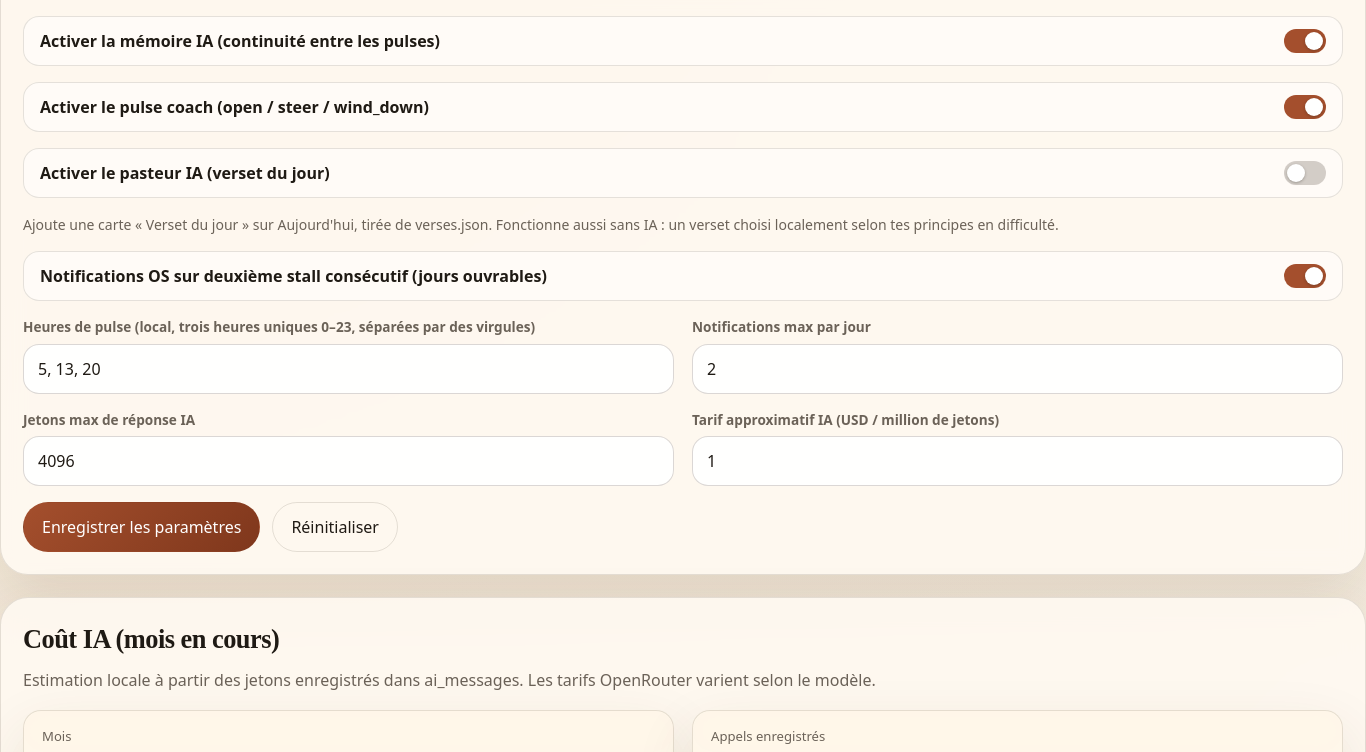
Test: SettingsPage AI payload preview › shows validation feedback for invalid pulse slot hours on blur
(page scrolled)
Step 1. Type "5, 13" into the field with placeholder "5, 13, 20" → [348, 369], box left=23, top=344, right=674, bottom=394
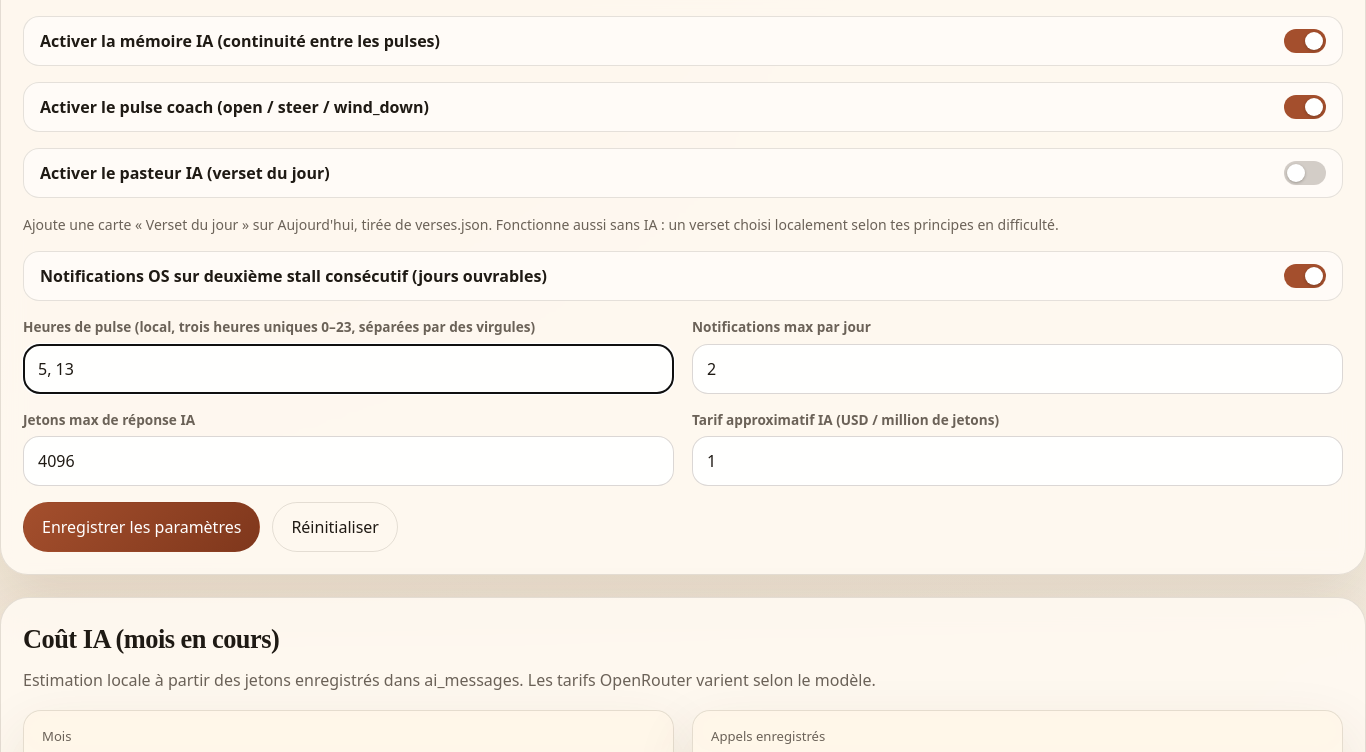
Step 2. Press Tab
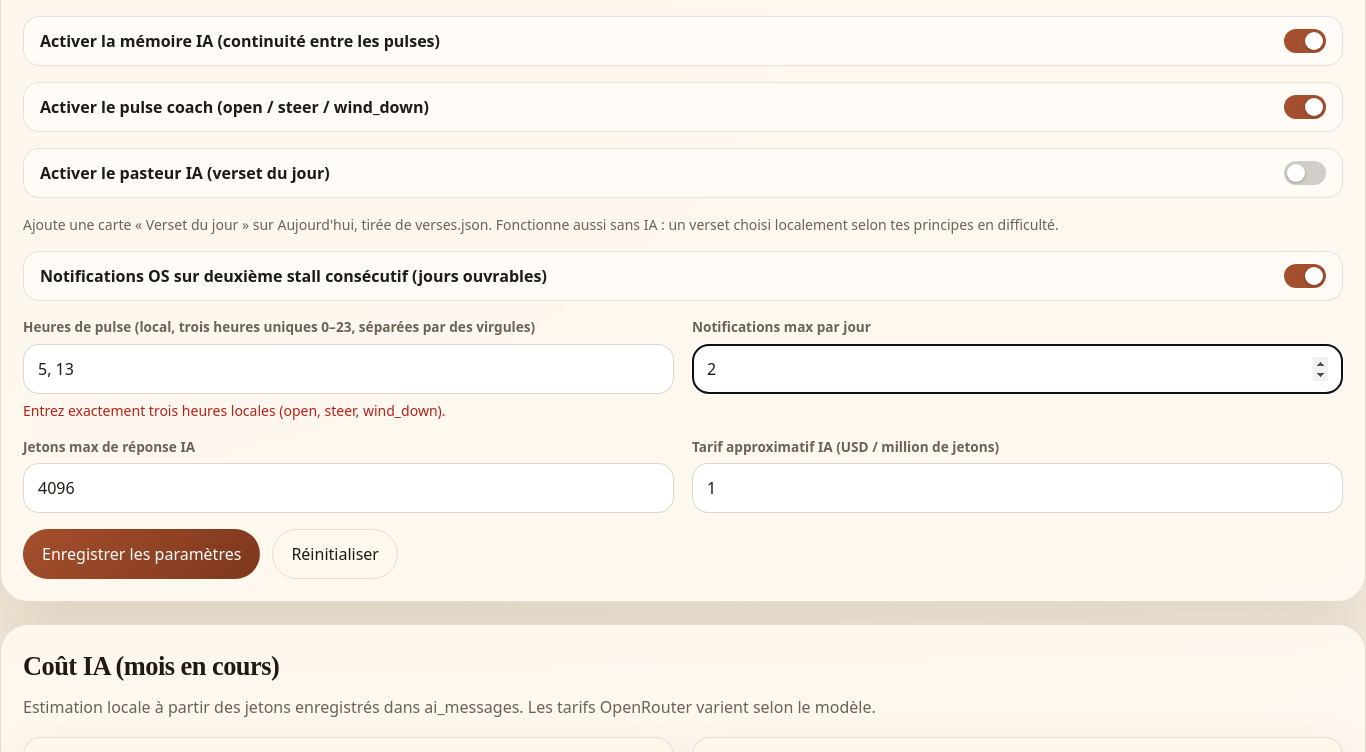
Expected: the text "Entrez exactement trois heures locales (open, steer, wind_down)." is shown, left=23, top=401, right=446, bottom=420
